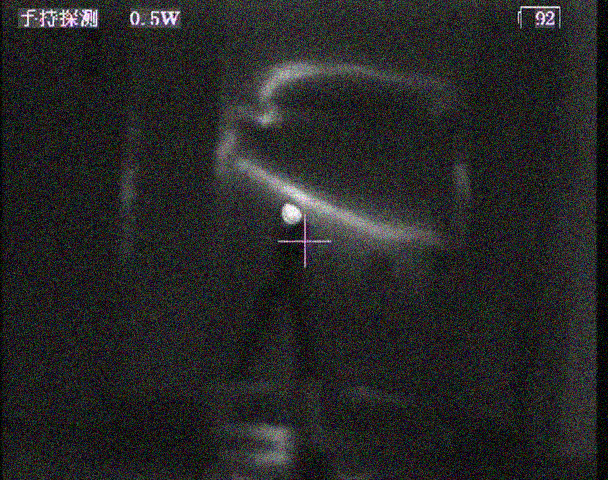my: (280, 200, 304, 226)
